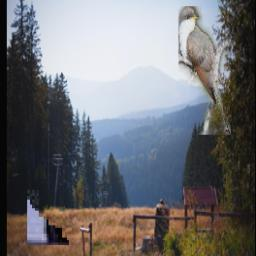Crow: (27, 0, 99, 246)
Cuckoo: (178, 7, 231, 136)
